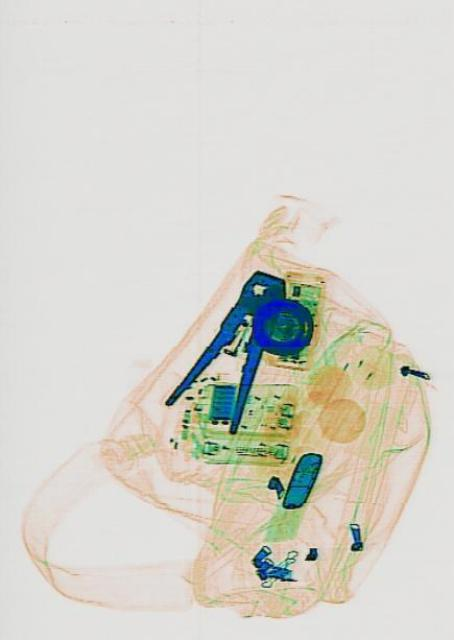Pliers: (161, 244, 299, 453)
